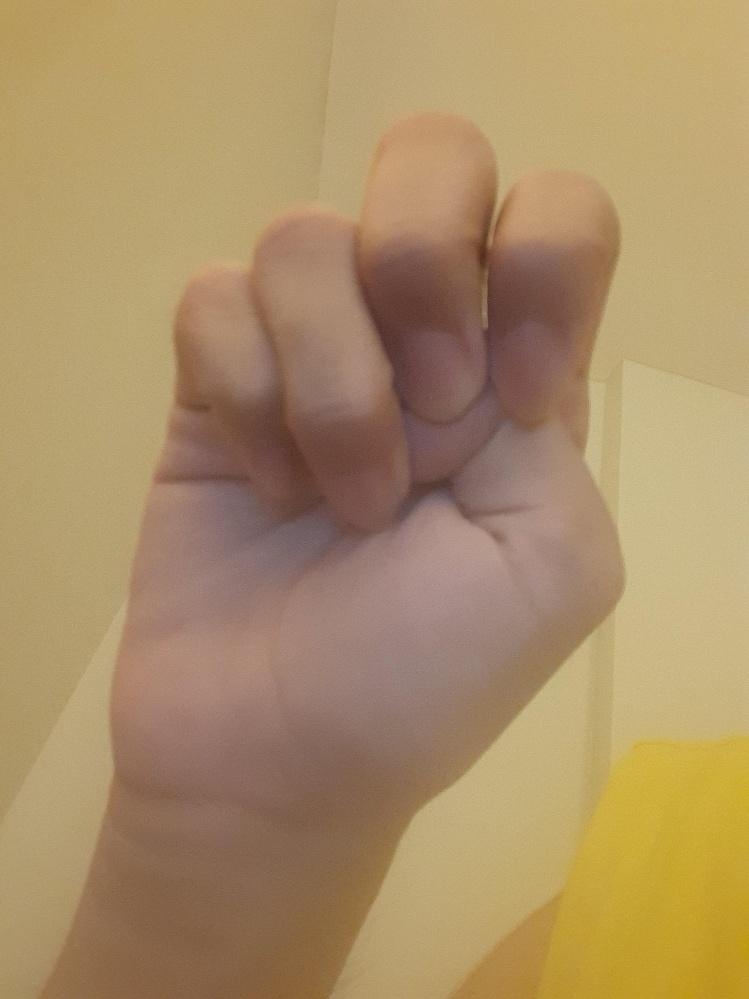n: (103, 110, 630, 798)
